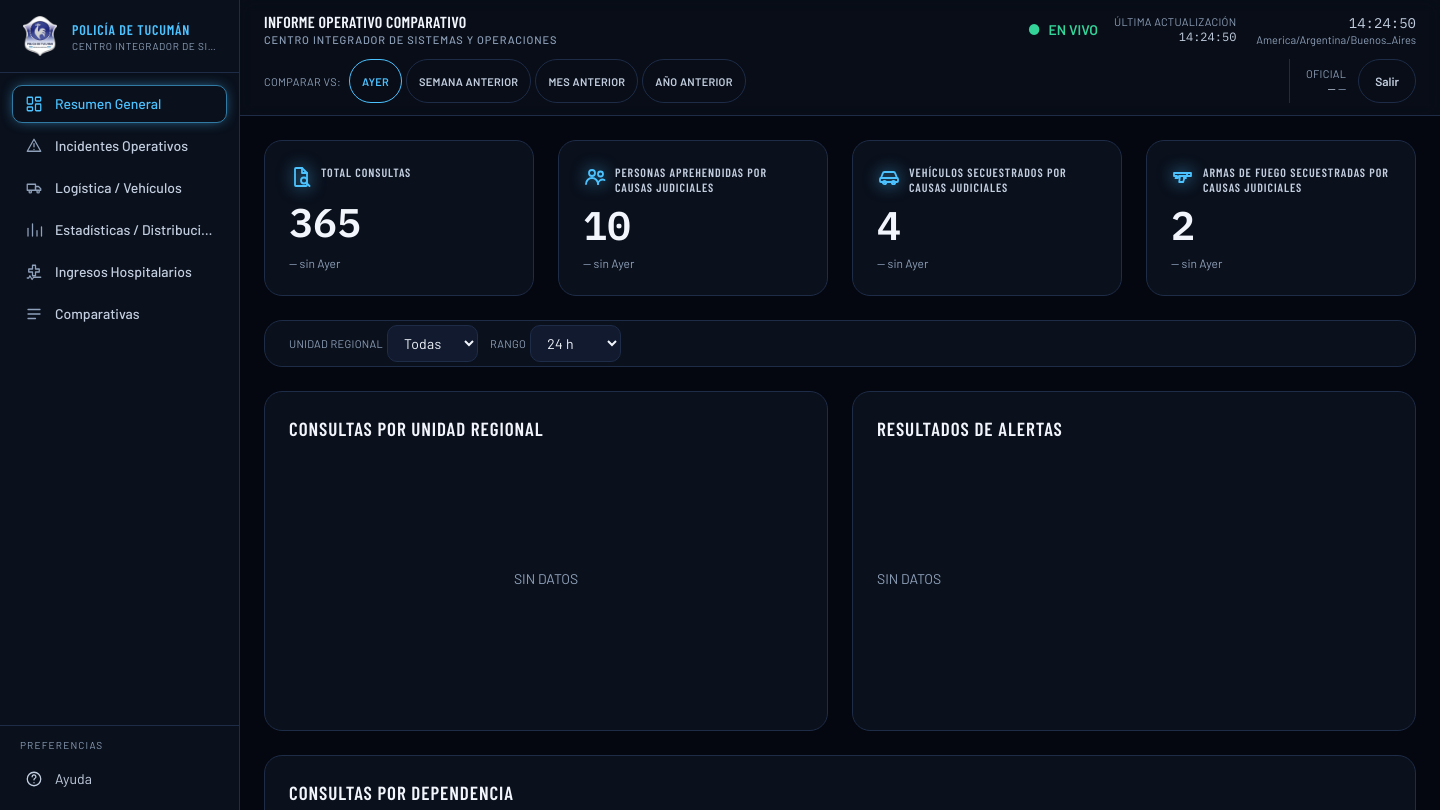
DashboardScreen · fuente primaria estadísticas › Resumen: KPIs con TOTALES reales y footer dinámico según el período
Expected: the element showing "TOTAL CONSULTAS 365 — sin Ayer" is shown, [264,140,534,296]
Expected: the text "— sin Ayer" below "365" is shown, [289,255,340,271]
Step 1. Click the radio button labelled "Mes anterior" → (587, 81), box [535,59,638,103]
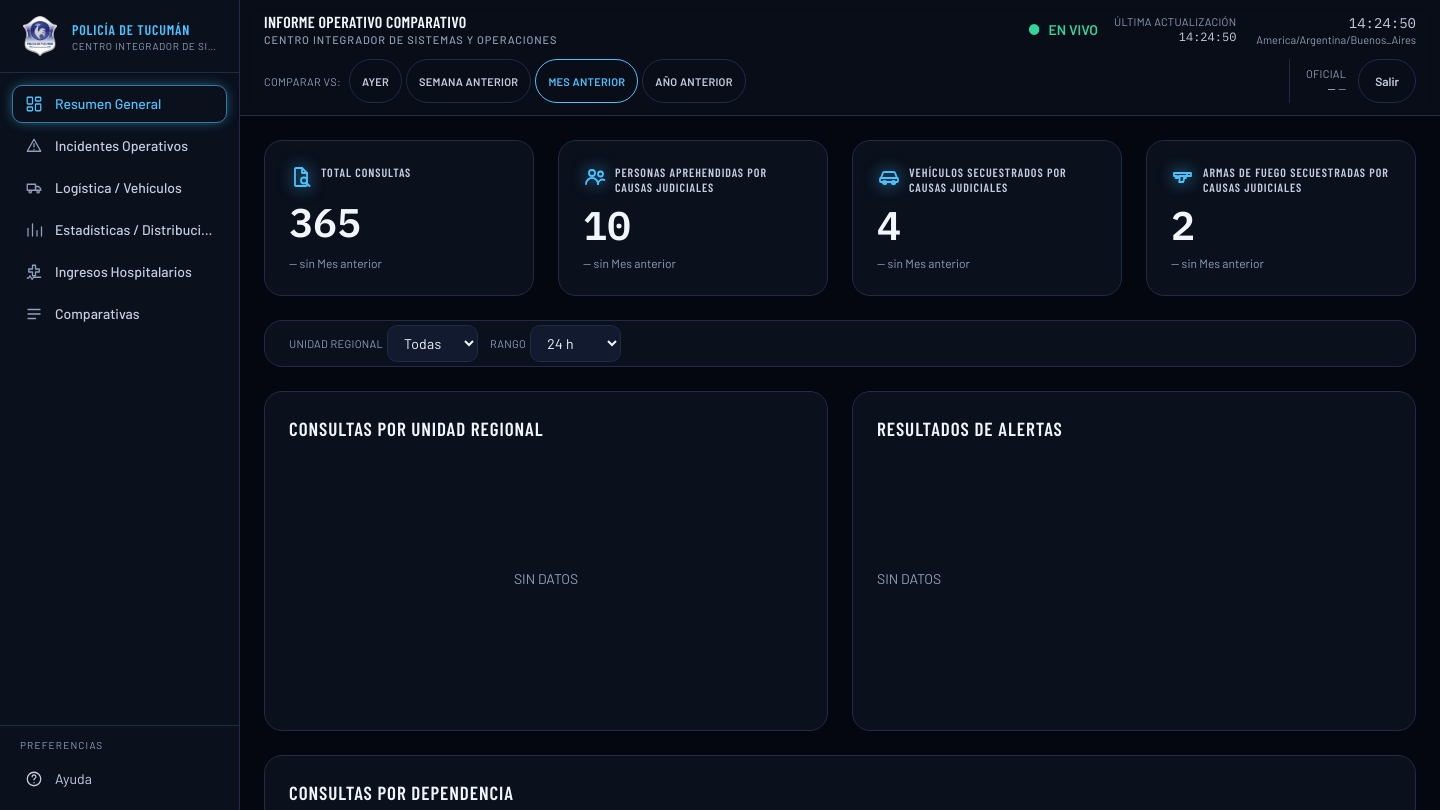
Expected: the text "— sin Mes anterior" below "365" is shown, [289,255,382,271]
Expected: the text "— sin Ayer" is gone
